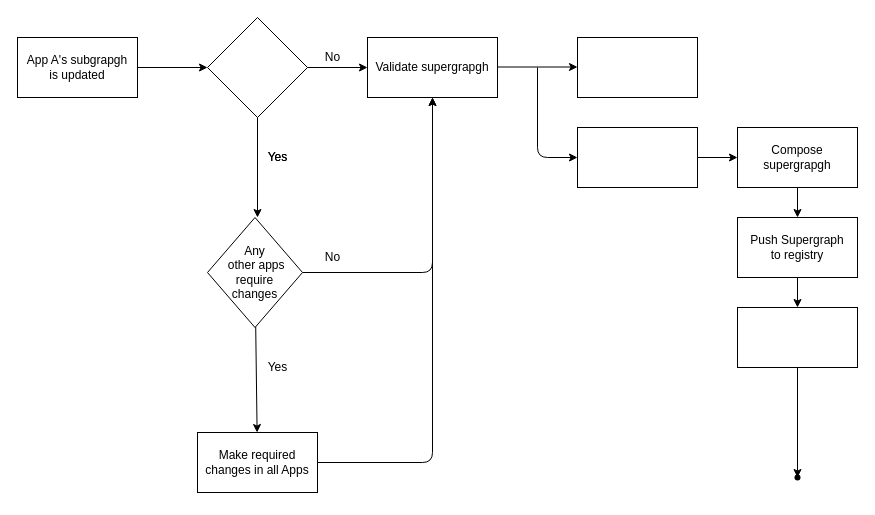
Image size: 875x515. Some labels were removed from this diagram. Each missing label, with the centre of its shape:
"Deployed required App(s)" goes at pixel 637 67.
"Gateway poll updated schema" goes at pixel 797 337.
"is common schema updated" goes at pixel 257 67.
"Push Subgraph(s) to registry" goes at pixel 637 157.
